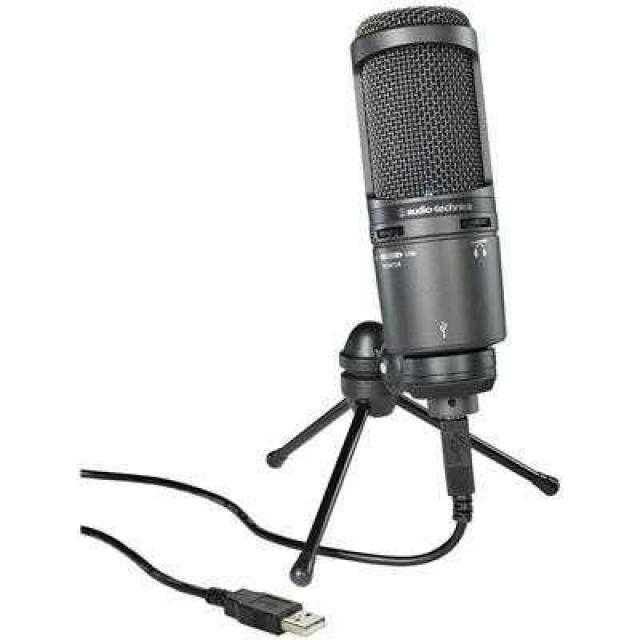microphone: (350, 7, 516, 413)
